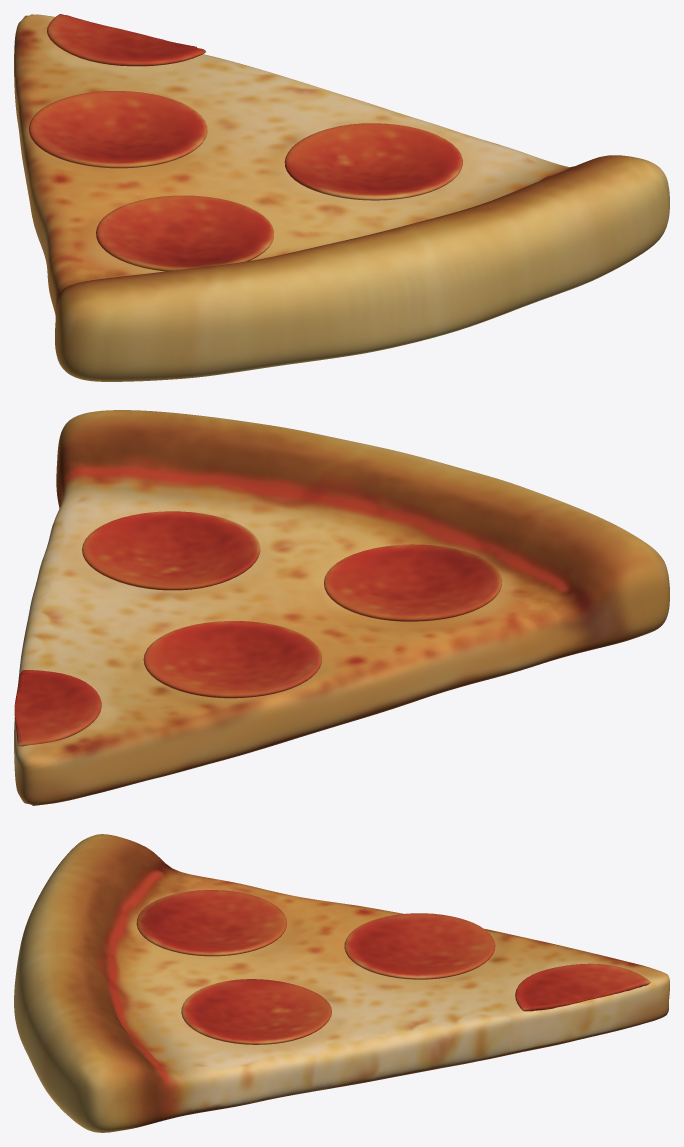
Rendered from pizza3.glb.
3 renders of one model, top to bottom at view 1: azimuth 30°, elevation 25°; view 2: azimuth 150°, elevation 25°; view 3: azimuth 270°, elevation 25°, orthographic. The views are drawn at different scales.
Parts seen in each view (by area): view 1: PIZZA, PEPERONI; view 2: PIZZA, PEPERONI; view 3: PIZZA, PEPERONI.
Part boxes in pixels (x1,y1,x2,y2): PIZZA: (14,14,669,381); PEPERONI: (29,14,462,271); PIZZA: (14,410,669,805); PEPERONI: (14,511,502,746); PIZZA: (14,834,669,1132); PEPERONI: (136,890,650,1044).
Bounding box in the file's own units: 1.47 × 0.2074 × 1.63.
2 materials, 2 textured.
